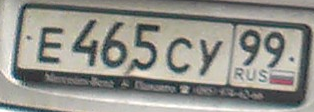character: (130, 19, 162, 74), (68, 17, 99, 69), (99, 19, 130, 69), (34, 25, 67, 66), (164, 34, 193, 77), (196, 37, 226, 77), (236, 28, 262, 67), (264, 29, 286, 69)
